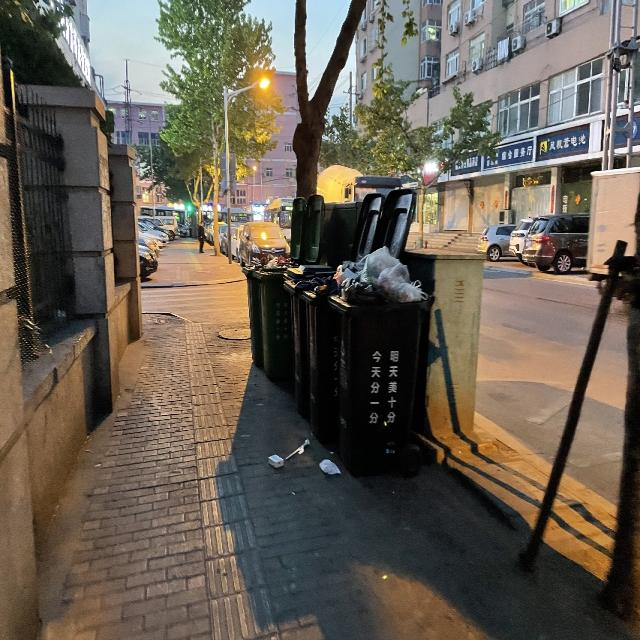garbage: (265, 436, 340, 475)
garbage_bin: (282, 261, 335, 417)
overflow: (329, 248, 433, 481), (302, 264, 344, 451), (252, 254, 294, 385), (240, 251, 262, 367)
